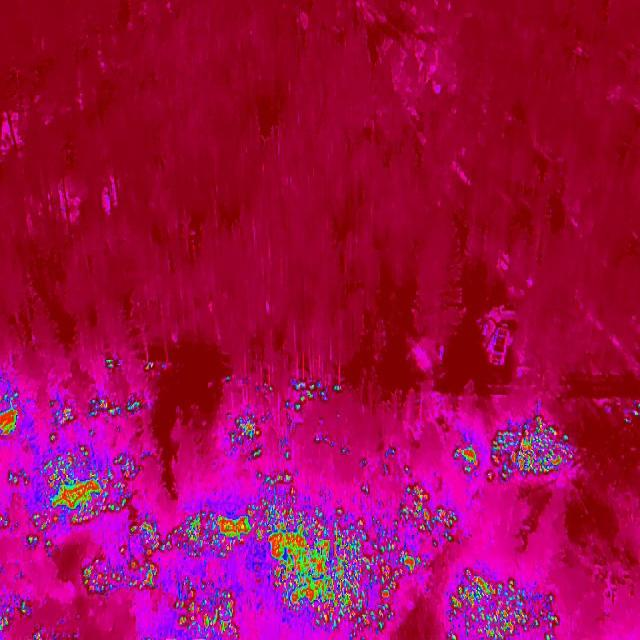fire: (251, 467, 457, 640), (0, 440, 144, 554), (438, 571, 558, 640), (487, 411, 587, 487), (132, 508, 255, 564), (54, 393, 154, 438), (170, 577, 243, 638), (76, 556, 161, 602), (223, 408, 273, 461), (284, 375, 346, 416), (0, 368, 27, 450), (98, 352, 168, 376), (0, 590, 36, 636), (450, 444, 480, 478)
